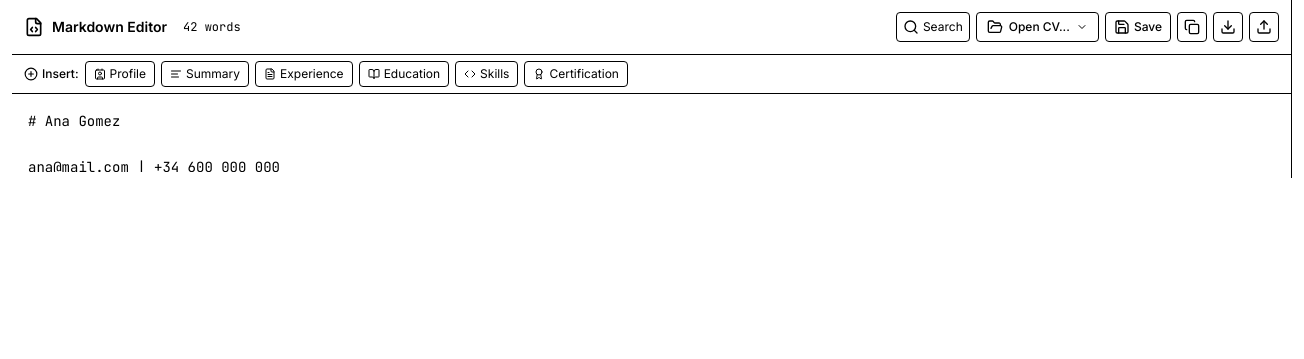
Test: MarkdownEditor library dropdown › opens the CV that was pressed and closes
Click the button "Open CV..." at (1037, 27), box [976, 12, 1099, 42]
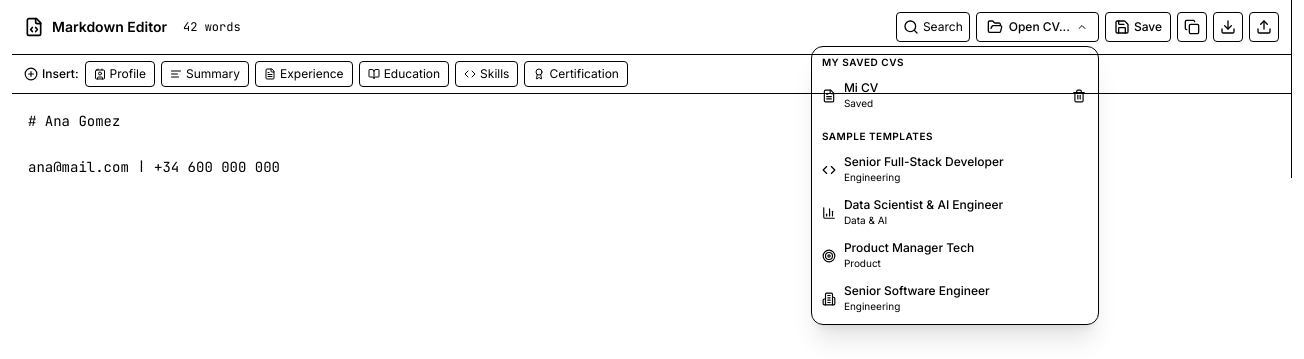
Click the menu item "Senior Full-Stack Developer Engineering" at (955, 170), box [812, 148, 1098, 191]
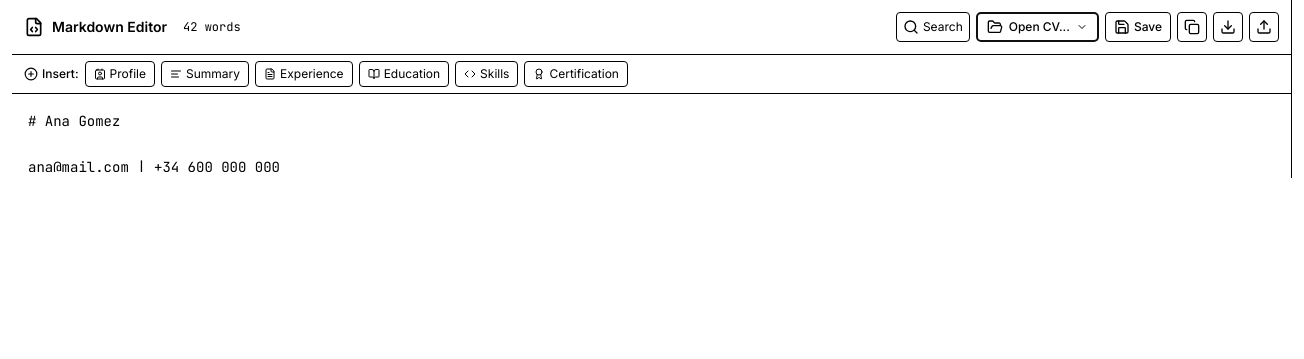
expect the menu is gone: met
